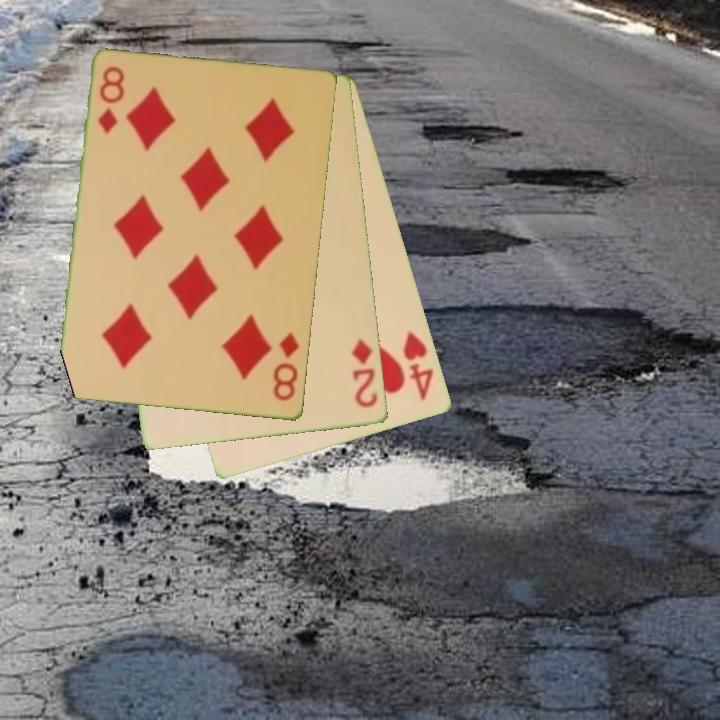2d: (348, 335, 381, 411)
4h: (400, 328, 437, 403)
8d: (270, 328, 302, 404), (95, 63, 127, 137)
